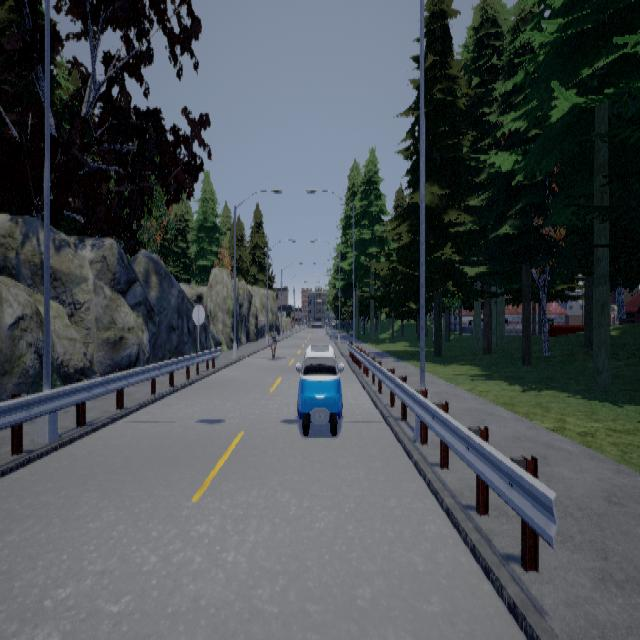bike: (266, 323, 280, 364)
vehicle: (295, 338, 346, 434)
